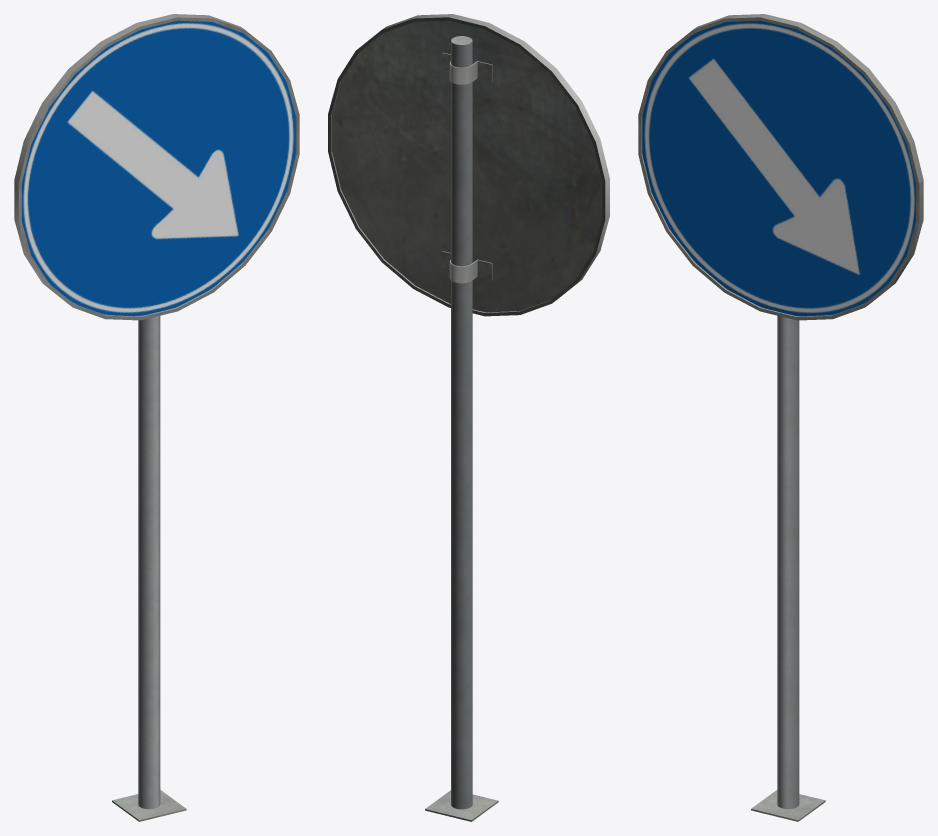
The picture shows the model from 3 angles, left to right: view 1: azimuth 30°, elevation 25°; view 2: azimuth 150°, elevation 25°; view 3: azimuth 330°, elevation 25°; orthographic projection.
Parts seen in each view (by area): view 1: MainBuilding; view 2: MainBuilding; view 3: MainBuilding.
Part boxes in pixels (left/top/right/bottom): MainBuilding: left=14, top=14, right=299, bottom=821; MainBuilding: left=328, top=14, right=609, bottom=821; MainBuilding: left=638, top=14, right=923, bottom=821.
Bounding box in the file's own units: 0.8923 × 2.4 × 0.15.
Materials: 1 (1 with a texture image).
